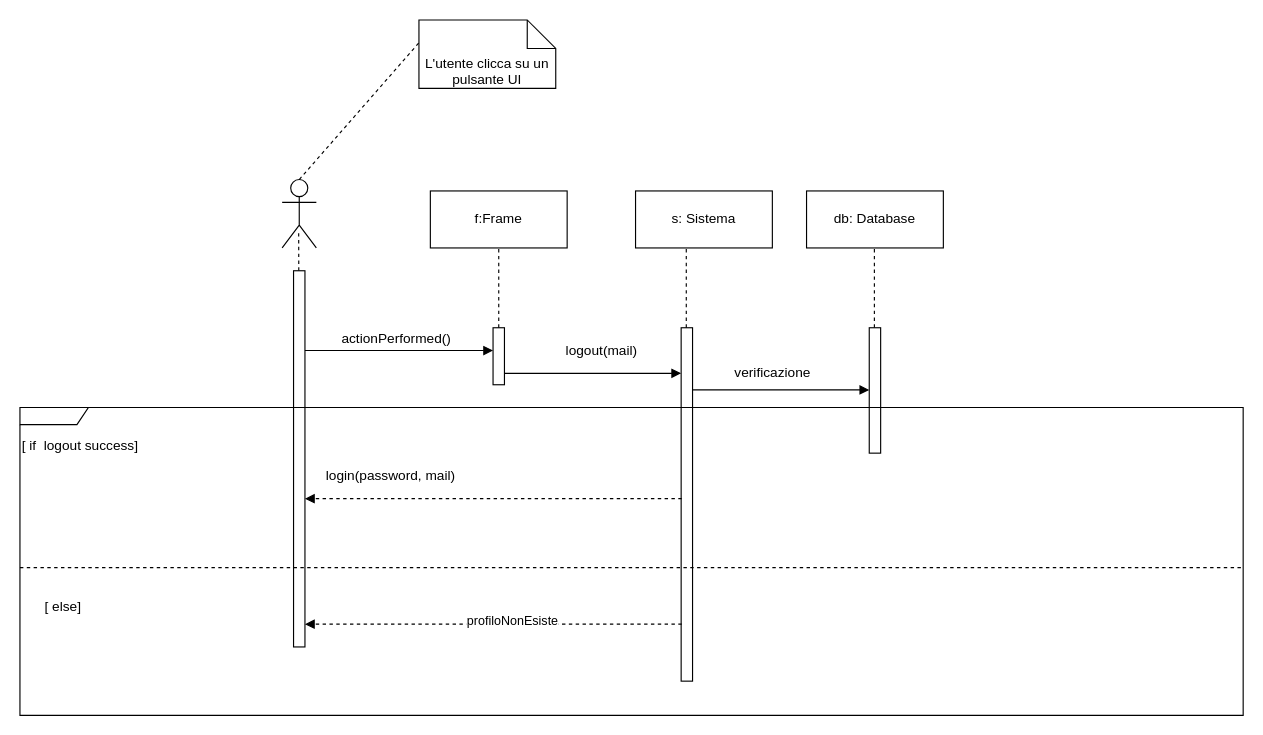
Image size: 1263x735. Some labels were removed from this diagram. Here are the shapes that lost their labels. From the top down, the box of each, then its label:
(281, 178, 316, 248): u.Utente
(19, 406, 1243, 715): Alternative
